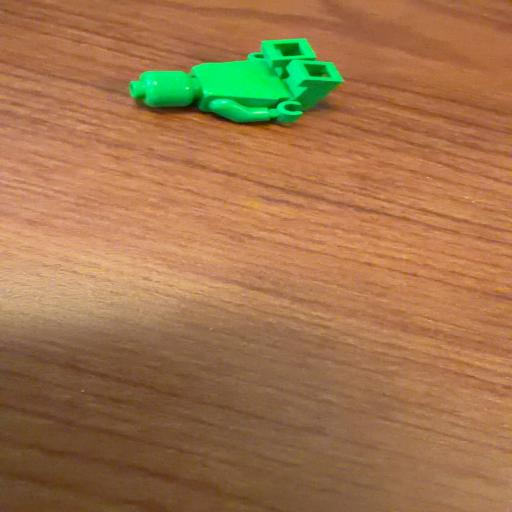UnoQ-minifig-detector: (129, 38, 344, 124)
